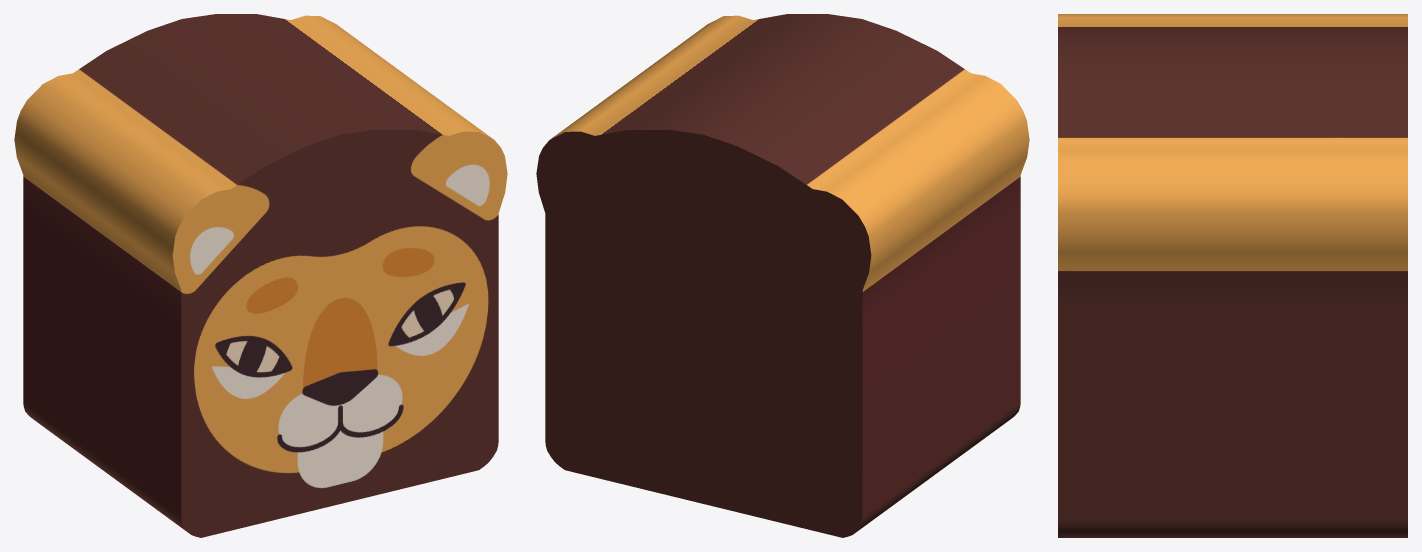
Rendered from Lion.fbx.
3 views of the same model, side by side, from view 1: azimuth 30°, elevation 25°; view 2: azimuth 150°, elevation 25°; view 3: azimuth 270°, elevation 25° (orthographic). The views are drawn at different scales.
Visible parts, largest first — view 1: Lion; view 2: Lion; view 3: Lion.
Boxes of the visible parts, left/top/right/bottom form: Lion: left=14, top=14, right=507, bottom=537; Lion: left=536, top=14, right=1029, bottom=537; Lion: left=1058, top=14, right=1407, bottom=537.
Bounding box in the file's own units: 5.66 × 5.96 × 4.63.
Materials: 1 (1 with a texture image).
